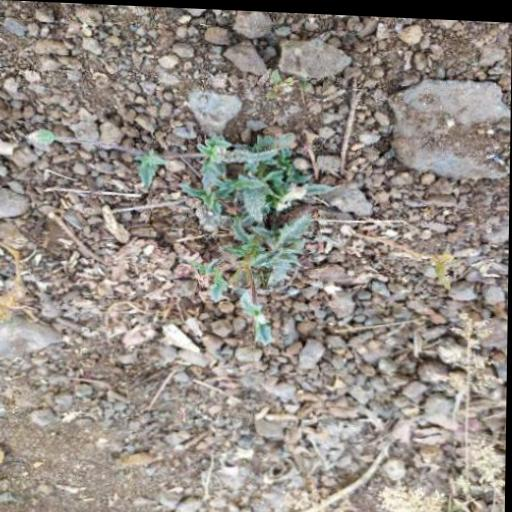weed: (120, 122, 325, 313)
